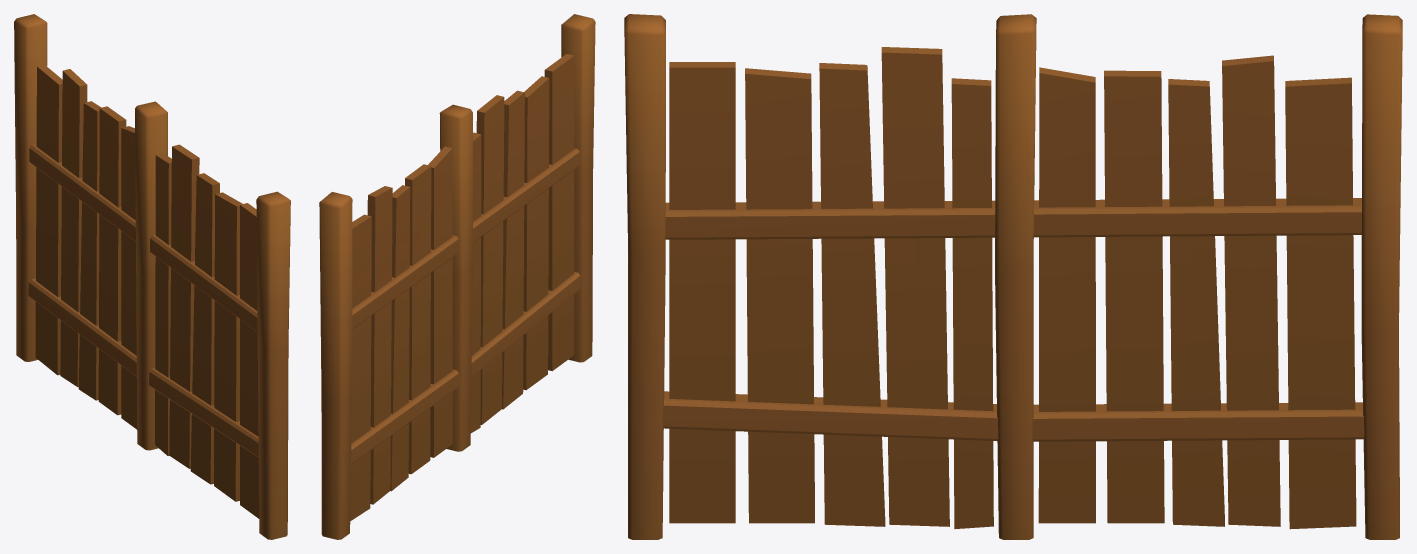
Rendered from WallFence_2_1_E.fbx.
3 views of the same model, side by side, from view 1: azimuth 30°, elevation 25°; view 2: azimuth 150°, elevation 25°; view 3: azimuth 270°, elevation 25° (orthographic). The views are drawn at different scales.
Visible parts, largest first — view 1: WallFence_2_1_E; view 2: WallFence_2_1_E; view 3: WallFence_2_1_E.
Boxes of the visible parts, box(x1,y1,x2,y2) form: WallFence_2_1_E: box(14, 14, 290, 539); WallFence_2_1_E: box(319, 14, 595, 539); WallFence_2_1_E: box(624, 14, 1402, 539).
Bounding box in the file's own units: 11.27 × 152 × 210.
